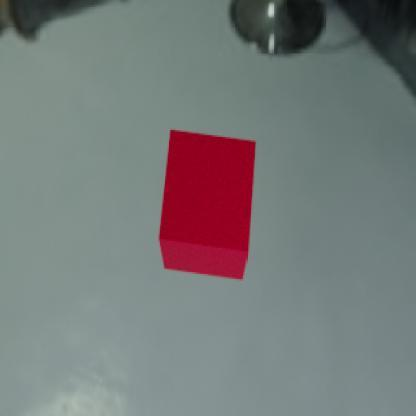cube: (157, 128, 256, 281)
